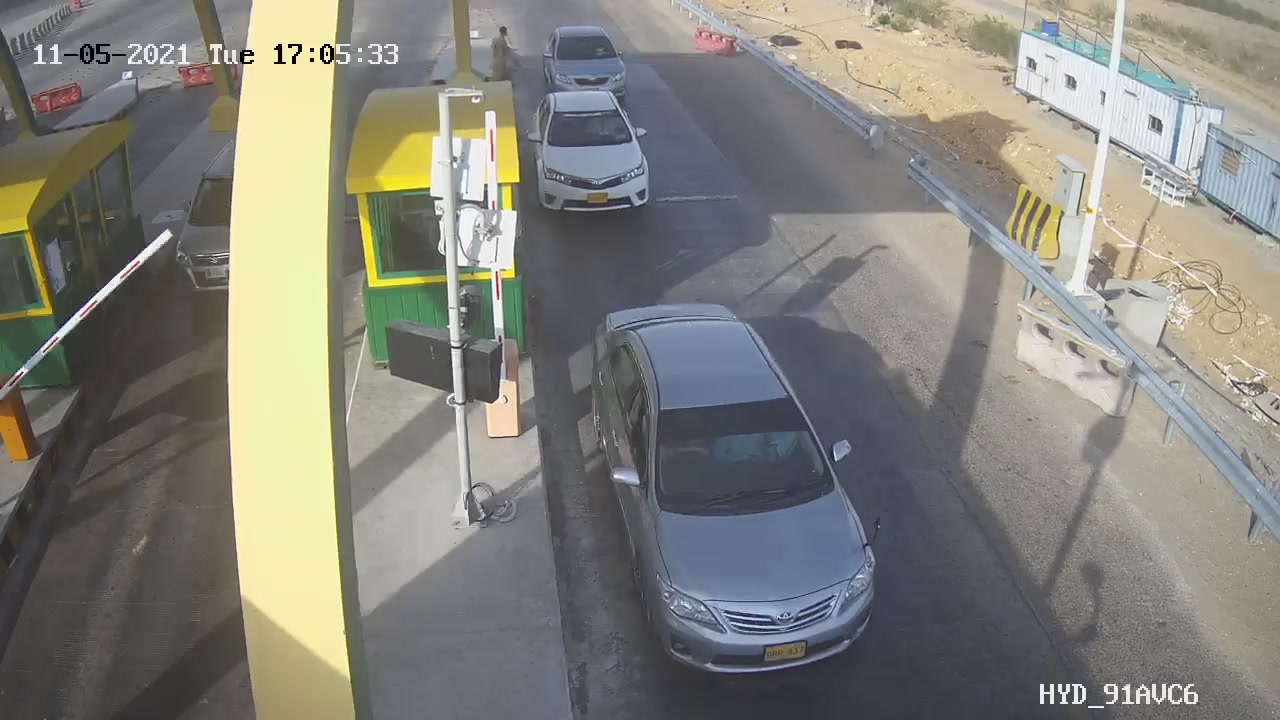F1: (518, 78, 670, 231), (529, 16, 644, 109)
